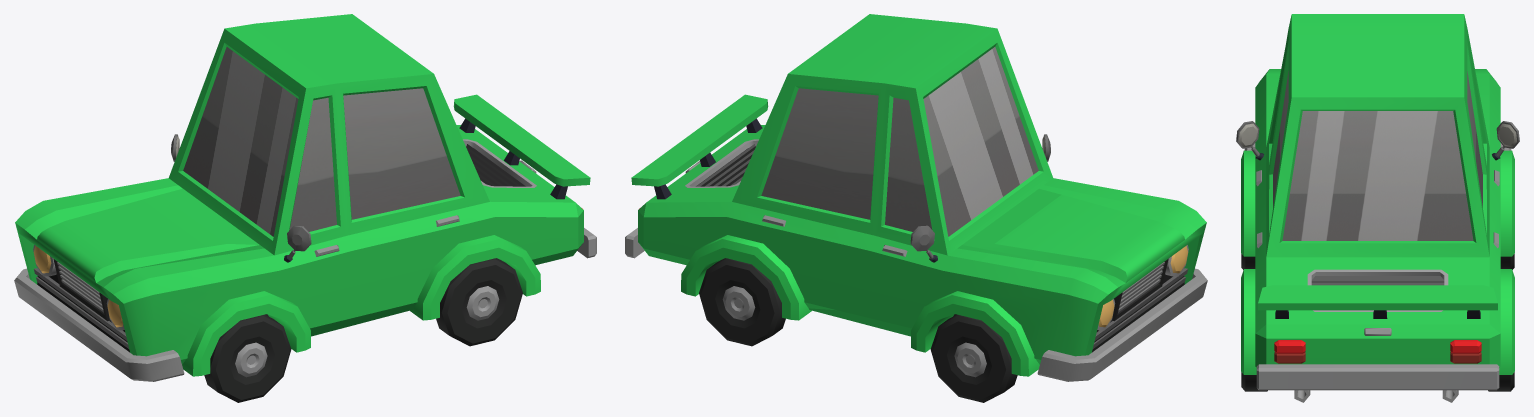
Rendered from Car_6_J.gltf.
3 views of the same model, side by side, from view 1: azimuth 30°, elevation 25°; view 2: azimuth 150°, elevation 25°; view 3: azimuth 270°, elevation 25° (orthographic). The views are drawn at different scales.
Parts seen in each view (by area): view 1: Car_6_J, RL, FL; view 2: Car_6_J, RR, FR; view 3: Car_6_J, RL, RR.
Boxes of the visible parts, box(x1,y1,x2,y2) form: Car_6_J: box(14, 14, 596, 381); RL: box(436, 258, 522, 346); FL: box(204, 314, 291, 402); Car_6_J: box(625, 14, 1207, 381); RR: box(699, 258, 785, 346); FR: box(930, 314, 1017, 402); Car_6_J: box(1236, 14, 1519, 402); RL: box(1241, 372, 1267, 391); RR: box(1488, 372, 1514, 391).
Bounding box in the file's own units: 3.1 × 1.72 × 1.51.
4 materials, 4 textured.
